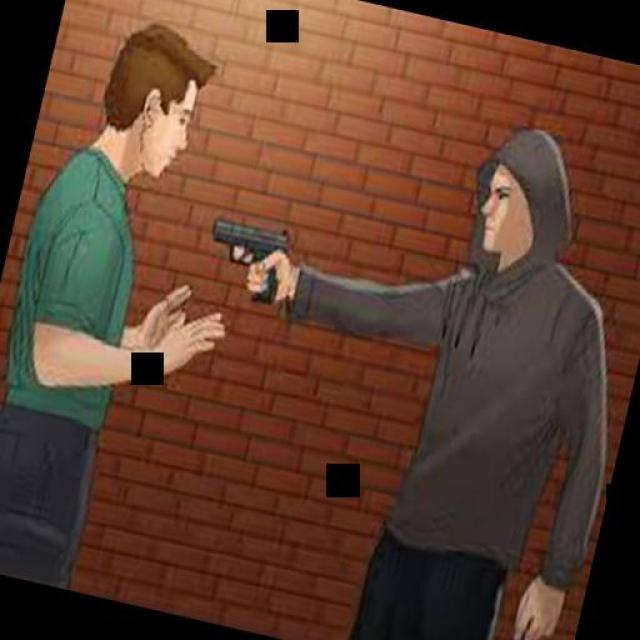gun: (196, 210, 294, 305)
